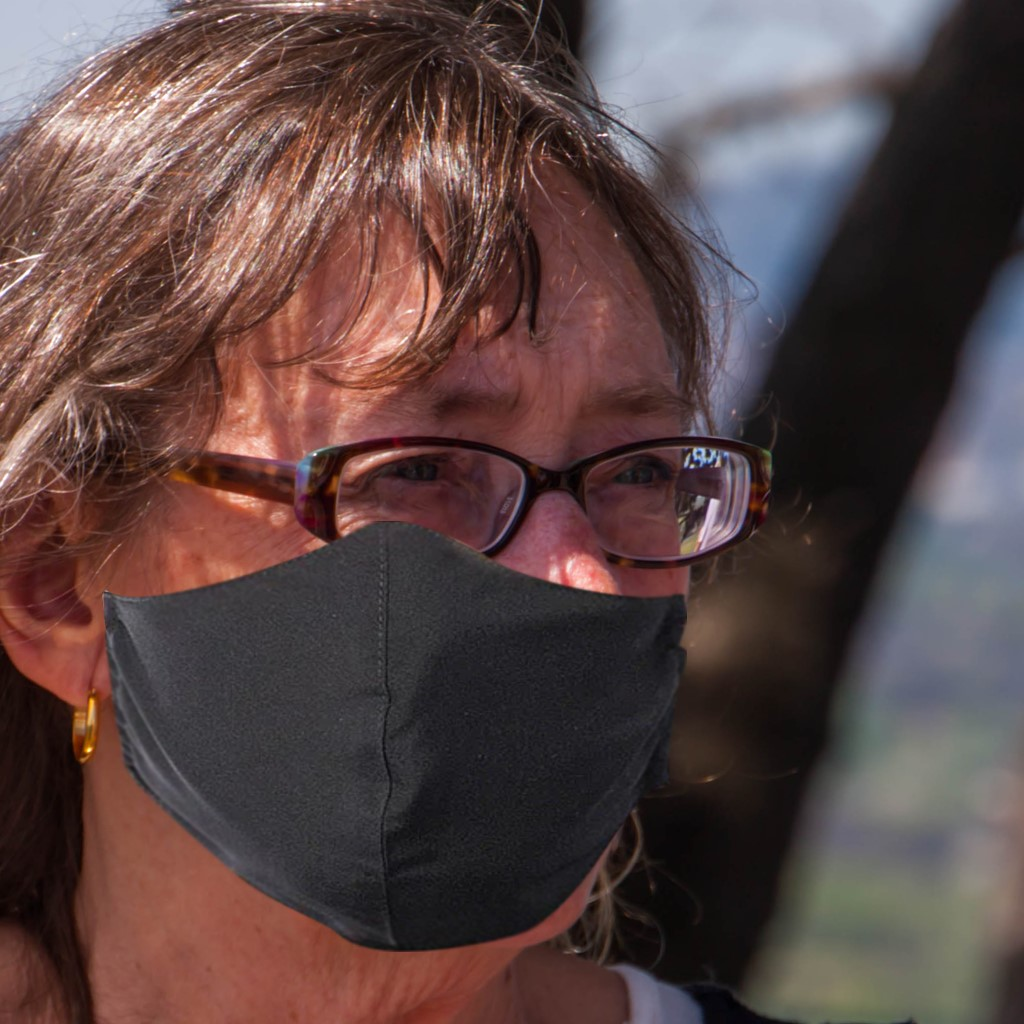con_mascara: (68, 163, 694, 934)
